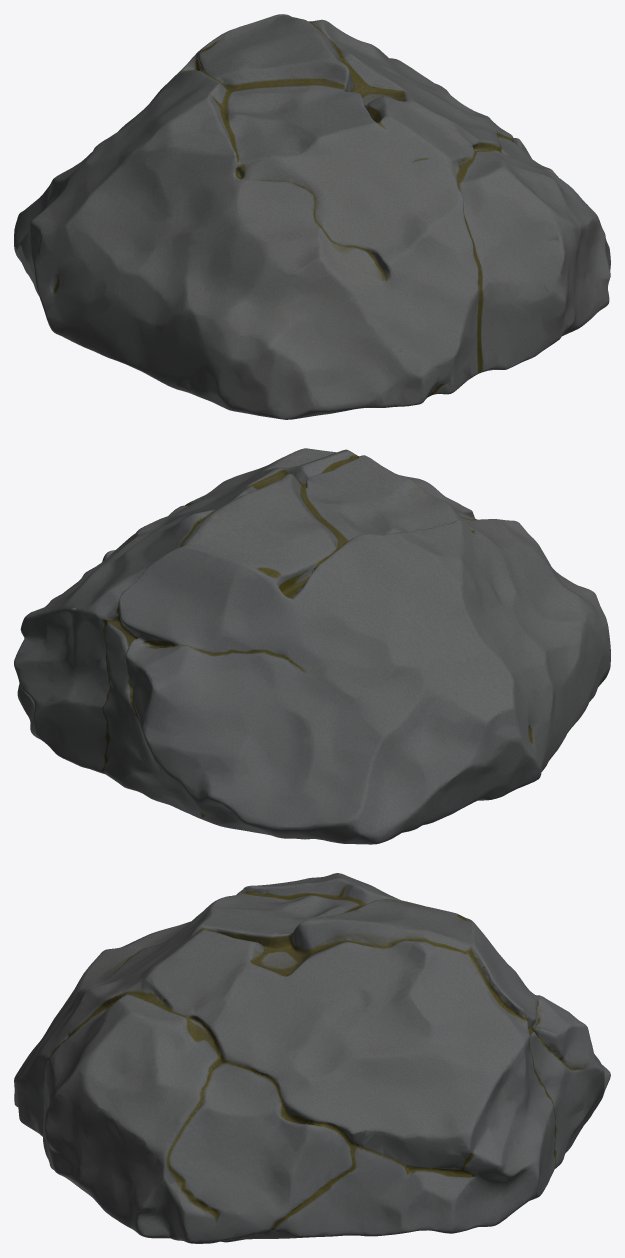
Rendered from rock_textured_01.glb.
3 views of the same model, one above another, from view 1: azimuth 30°, elevation 25°; view 2: azimuth 150°, elevation 25°; view 3: azimuth 270°, elevation 25° (orthographic).
Bounding box in the file's own units: 1.87 × 0.8577 × 2.
Materials: 1 (1 with a texture image).
